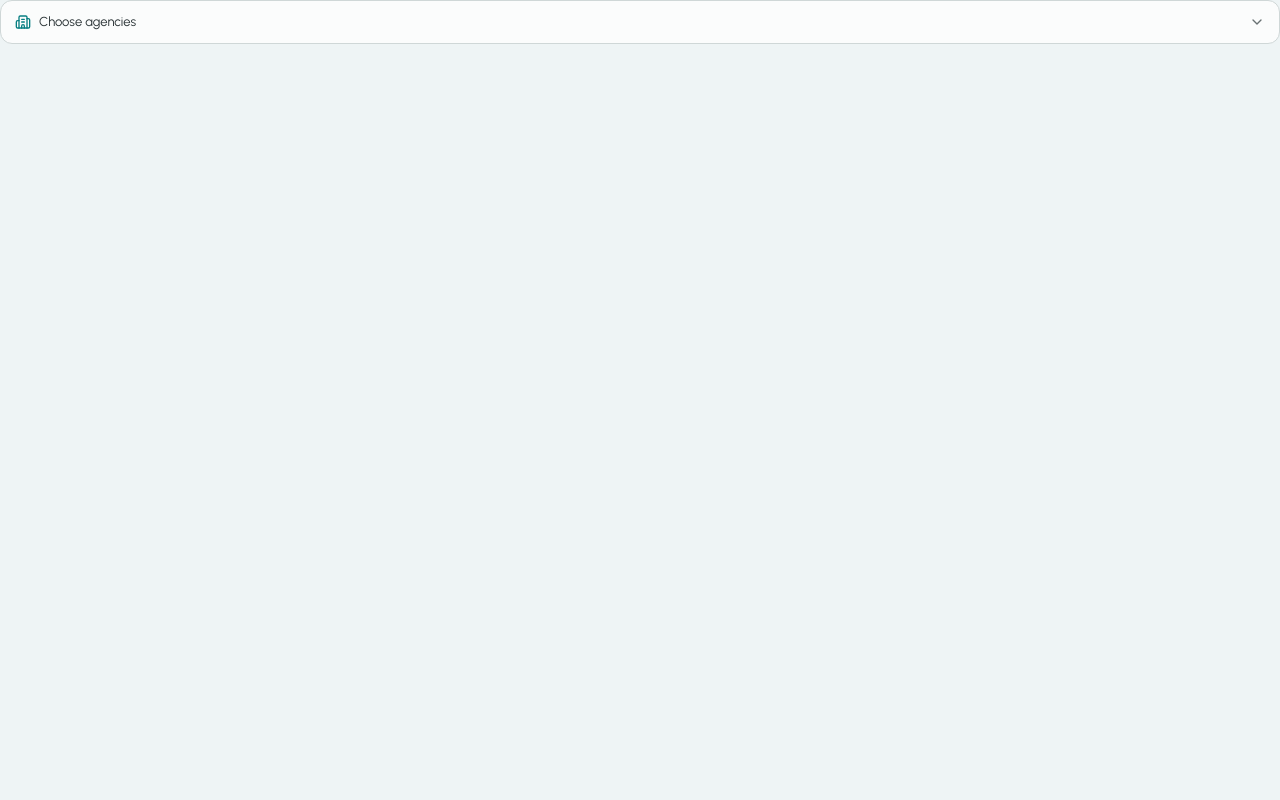
Test: OperationalAgencySelector › keeps the Load more action outside the listbox that owns agency options
Click the button with aria-label "Select agencies, none selected" at (88, 22), box [0,0,1279,44]
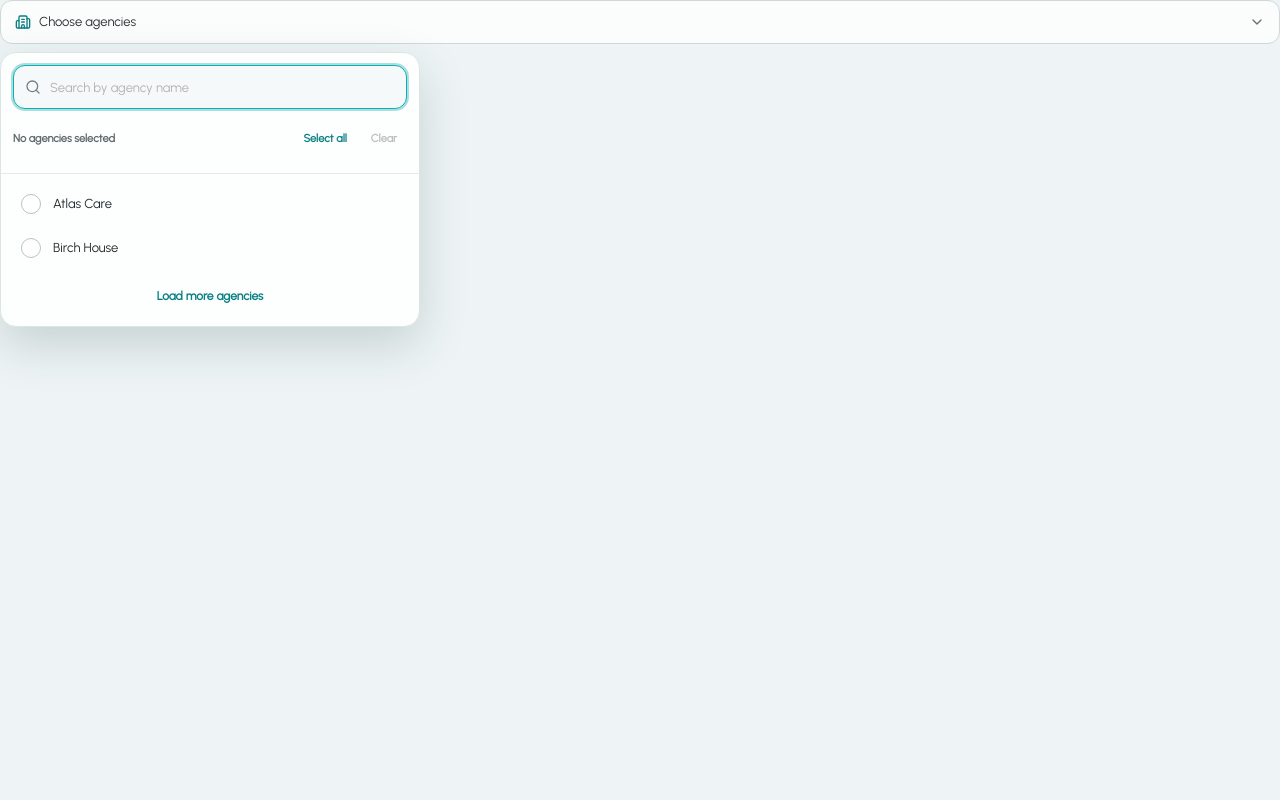
Result: the number of options is 2 at [9,182,411,226]; [9,226,411,270]
